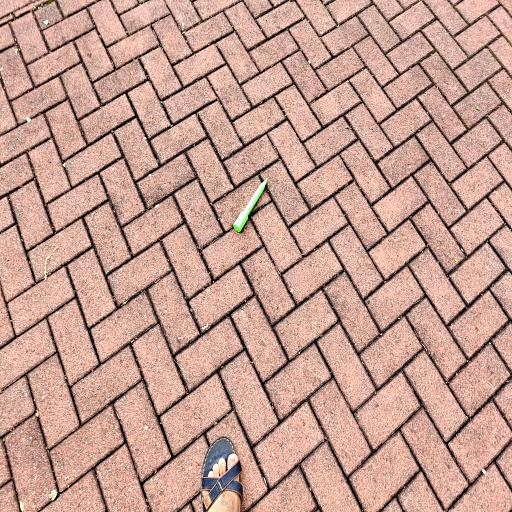Probe-Detection: (233, 180, 267, 232)
